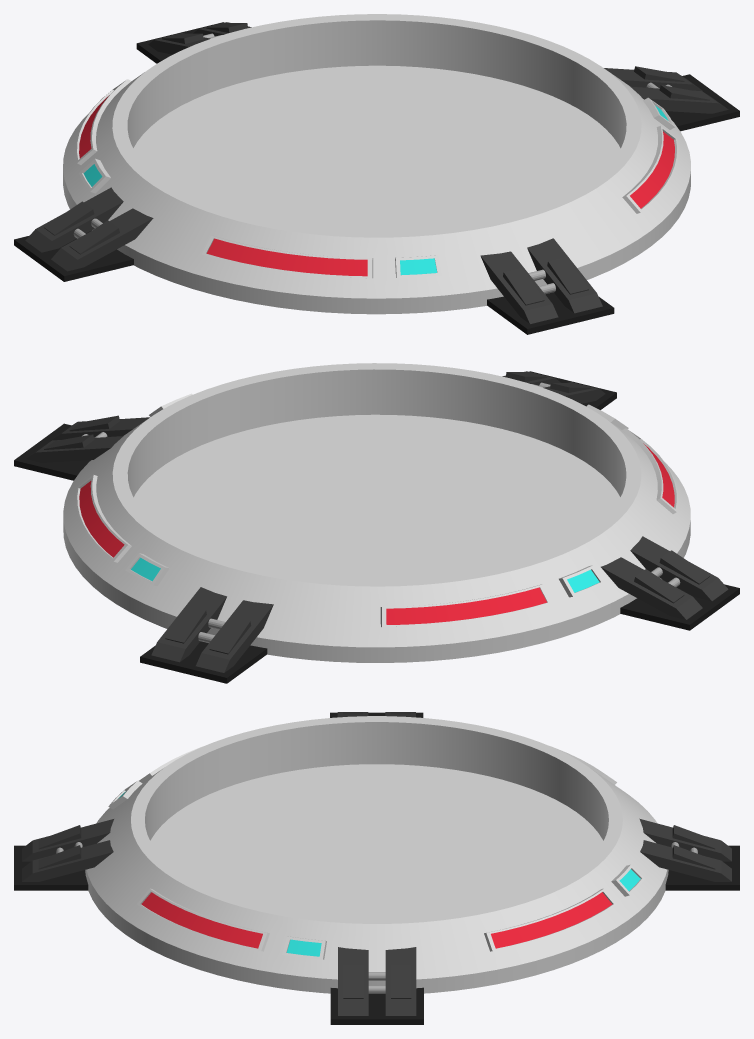
Rendered from super_button_base.fbx.
3 renders of one model, top to bottom at view 1: azimuth 30°, elevation 25°; view 2: azimuth 150°, elevation 25°; view 3: azimuth 270°, elevation 25°, orthographic. The views are drawn at different scales.
Visible parts, largest first — view 1: Base; view 2: Base; view 3: Base.
Part boxes in pixels (box(x1,y1,x2,y2)): Base: box(14, 14, 739, 334); Base: box(14, 363, 739, 683); Base: box(14, 712, 739, 1024).
Size of the model in its own units: 269 by 21.14 by 269.
